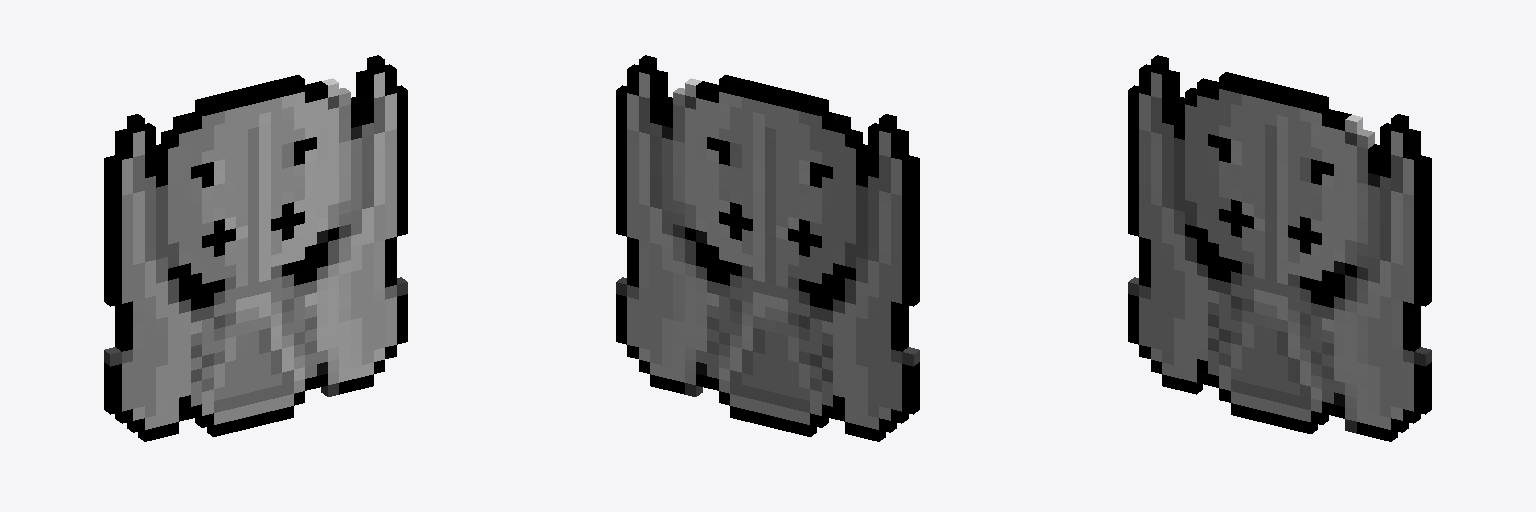
File: matatu.obj
3 views of the same model, side by side, from view 1: azimuth 30°, elevation 25°; view 2: azimuth 150°, elevation 25°; view 3: azimuth 330°, elevation 25° (orthographic).
Size of the model in its own units: 26 by 28 by 1.